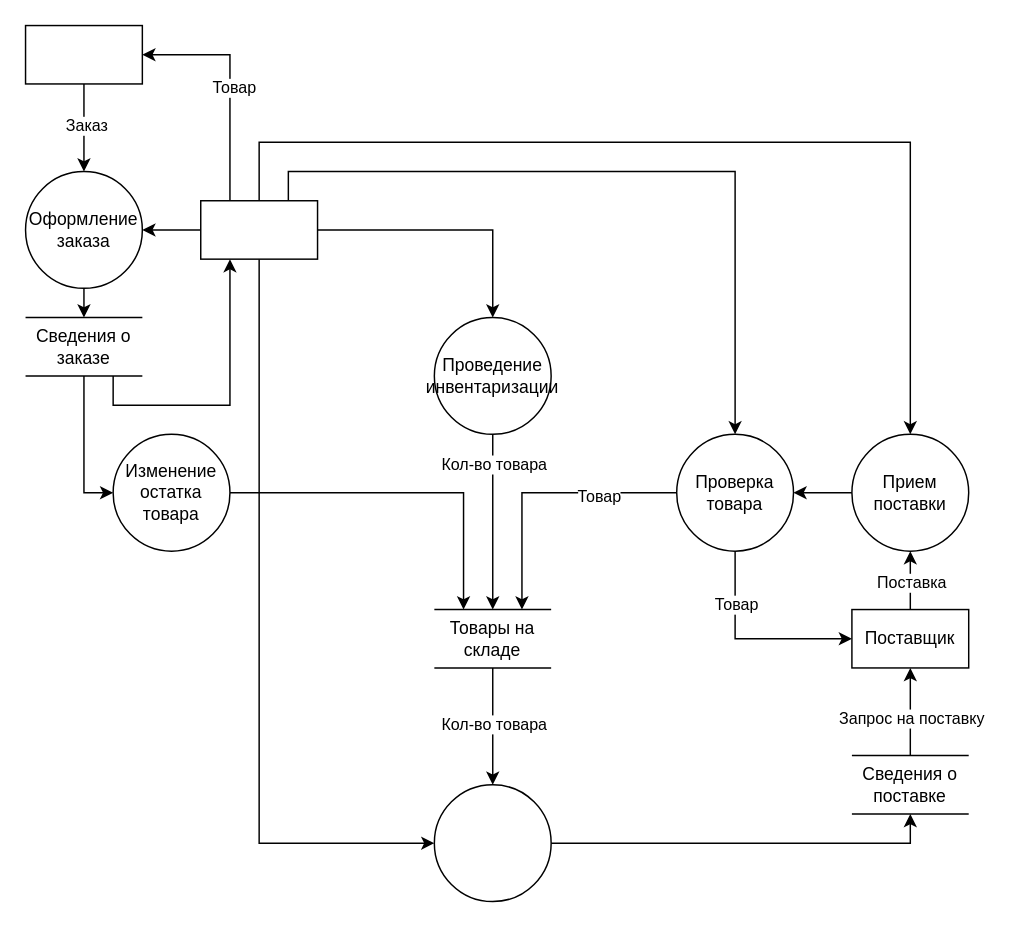
This 1009x927 diagram has some shape labels left out. The box of each missing label's shape, as (x1, y1, x2, y2) in pixels:
Заказчик: (24, 24, 142, 84)
Заявка на поставку: (433, 783, 551, 902)
Сотрудник склада: (199, 199, 318, 259)
